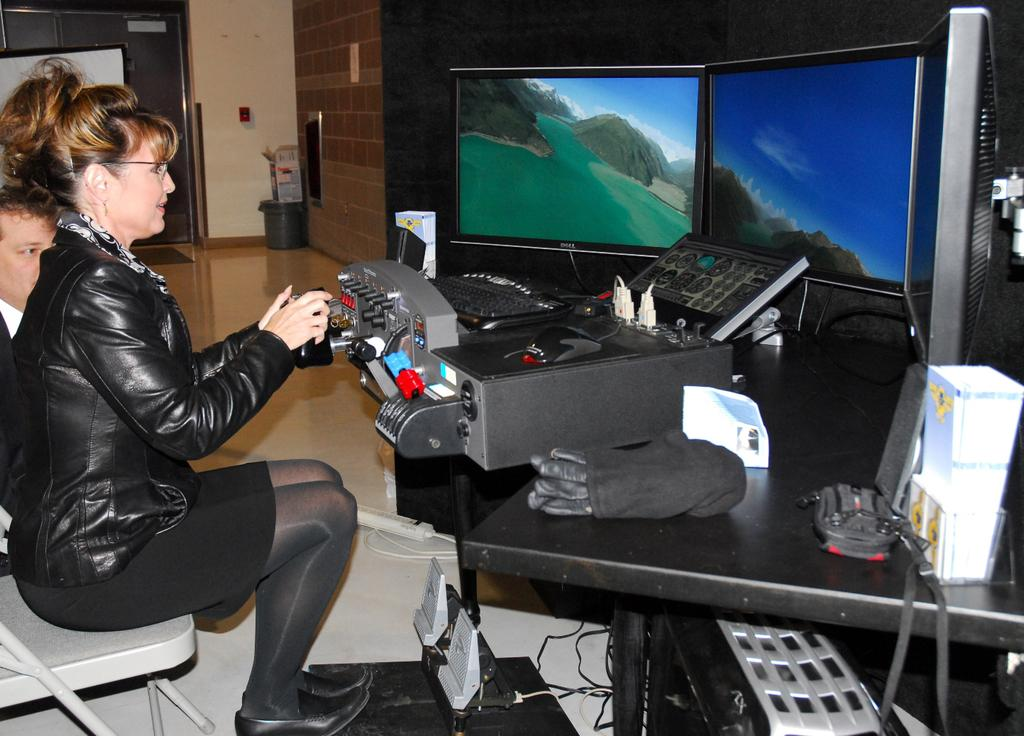Computer-monitor: (700, 40, 935, 350), (449, 62, 705, 305)
